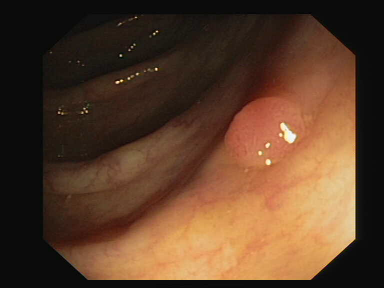polyp: (205, 77, 324, 183)
